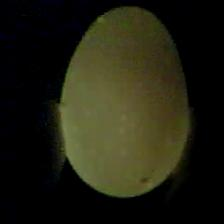infertile: (59, 4, 193, 198)
